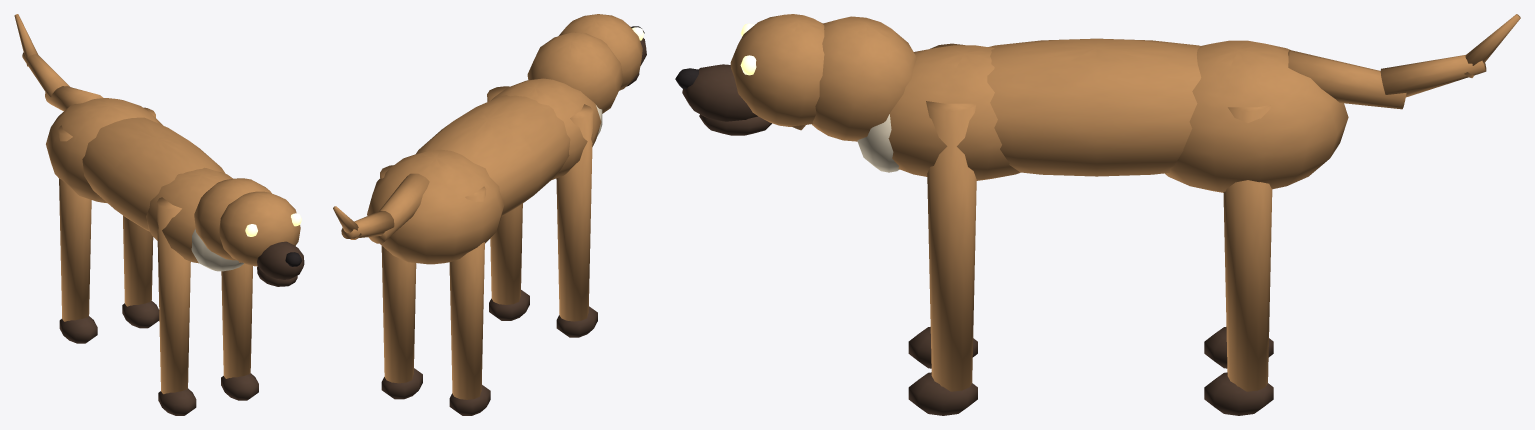
Rendered from animal_dog.glb.
The picture shows the model from 3 angles, left to right: view 1: azimuth 30°, elevation 25°; view 2: azimuth 150°, elevation 25°; view 3: azimuth 270°, elevation 25°; orthographic projection. The views are drawn at different scales.
Parts seen in each view (by area): view 1: animal_dog_body, animal_dog_leg_FL, animal_dog_haunch, animal_dog_head, animal_dog_leg_BL, animal_dog_leg_FR, animal_dog_chest, animal_dog_leg_BR, animal_dog_neck, animal_dog_muzzle, animal_dog_chest_bib, animal_dog_tail1 (+7 smaller); view 2: animal_dog_haunch, animal_dog_body, animal_dog_leg_FL, animal_dog_leg_BL, animal_dog_neck, animal_dog_leg_BR, animal_dog_chest, animal_dog_leg_FR, animal_dog_head, animal_dog_tail0, animal_dog_tail1, animal_dog_paw_BL (+4 smaller); view 3: animal_dog_body, animal_dog_haunch, animal_dog_leg_FR, animal_dog_chest, animal_dog_leg_BR, animal_dog_neck, animal_dog_head, animal_dog_tail0, animal_dog_muzzle, animal_dog_tail1, animal_dog_paw_BR, animal_dog_paw_FR (+5 smaller).
Boxes of the visible parts, x1=… form: animal_dog_body: x1=82, y1=117, x2=225, y2=231; animal_dog_leg_FL: x1=157, y1=197, x2=190, y2=394; animal_dog_haunch: x1=46, y1=98, x2=162, y2=203; animal_dog_head: x1=218, y1=191, x2=300, y2=266; animal_dog_leg_BL: x1=58, y1=125, x2=91, y2=321; animal_dog_leg_FR: x1=221, y1=263, x2=252, y2=378; animal_dog_chest: x1=146, y1=167, x2=232, y2=263; animal_dog_leg_BR: x1=123, y1=107, x2=155, y2=306; animal_dog_neck: x1=194, y1=178, x2=271, y2=260; animal_dog_muzzle: x1=257, y1=241, x2=304, y2=279; animal_dog_chest_bib: x1=191, y1=229, x2=243, y2=271; animal_dog_tail1: x1=22, y1=52, x2=69, y2=96; animal_dog_haunch: x1=367, y1=149, x2=504, y2=264; animal_dog_body: x1=416, y1=95, x2=570, y2=216; animal_dog_leg_FL: x1=556, y1=104, x2=593, y2=321; animal_dog_leg_BL: x1=449, y1=186, x2=486, y2=399; animal_dog_neck: x1=527, y1=32, x2=623, y2=113; animal_dog_leg_BR: x1=380, y1=165, x2=416, y2=383; animal_dog_chest: x1=491, y1=78, x2=601, y2=179; animal_dog_leg_FR: x1=487, y1=86, x2=522, y2=304; animal_dog_head: x1=559, y1=14, x2=642, y2=90; animal_dog_tail0: x1=368, y1=173, x2=429, y2=243; animal_dog_tail1: x1=341, y1=211, x2=394, y2=238; animal_dog_paw_BL: x1=449, y1=384, x2=490, y2=415; animal_dog_body: x1=987, y1=38, x2=1201, y2=176; animal_dog_haunch: x1=1164, y1=40, x2=1348, y2=192; animal_dog_leg_FR: x1=926, y1=101, x2=976, y2=391; animal_dog_chest: x1=888, y1=45, x2=1020, y2=180; animal_dog_leg_BR: x1=1223, y1=105, x2=1272, y2=391; animal_dog_neck: x1=811, y1=16, x2=916, y2=141; animal_dog_head: x1=730, y1=14, x2=824, y2=126; animal_dog_tail0: x1=1288, y1=50, x2=1406, y2=109; animal_dog_muzzle: x1=682, y1=64, x2=757, y2=121; animal_dog_tail1: x1=1380, y1=55, x2=1486, y2=97; animal_dog_paw_BR: x1=1204, y1=372, x2=1273, y2=415; animal_dog_paw_FR: x1=908, y1=372, x2=977, y2=415.
Size of the model in its own units: 0.2827 by 0.6584 by 1.34.
5 materials, 4 textured.
